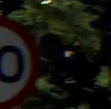Speed limit: (1, 17, 37, 105)
